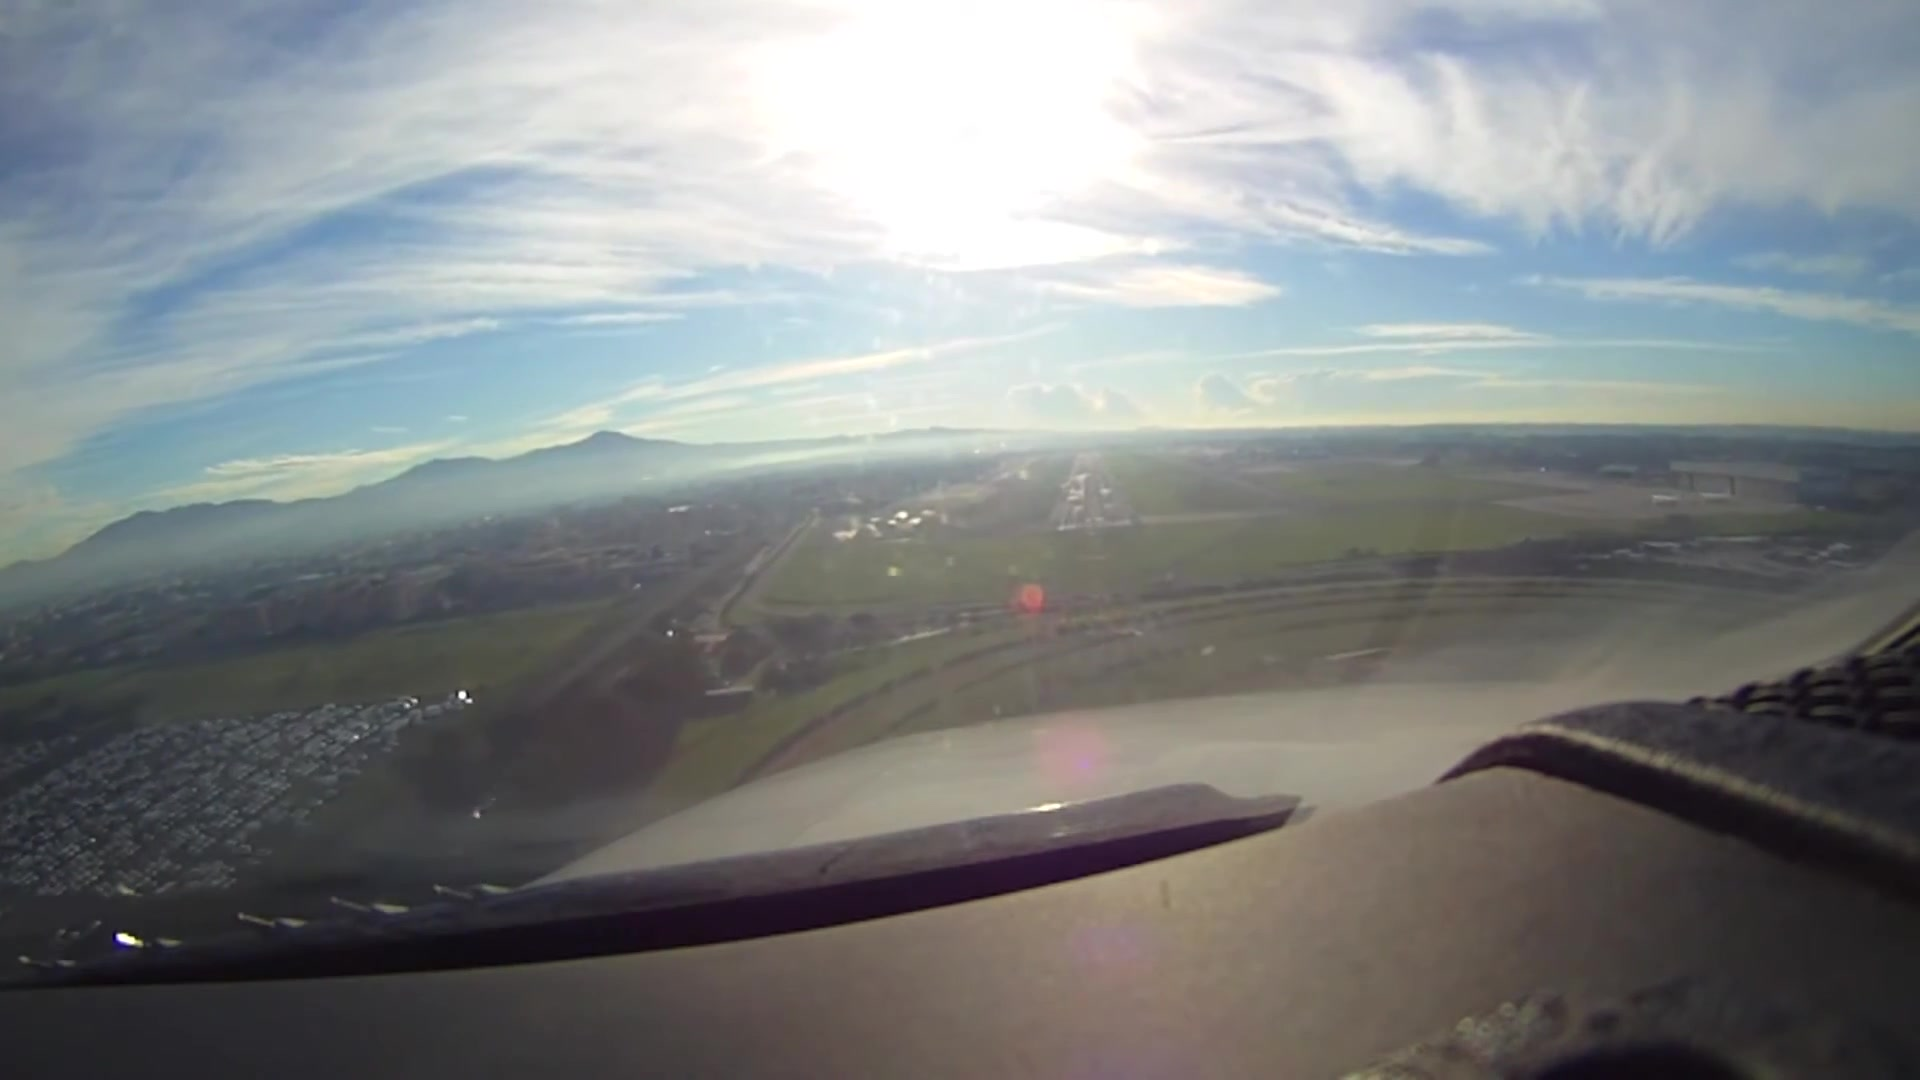runway: (1052, 447, 1135, 531)
